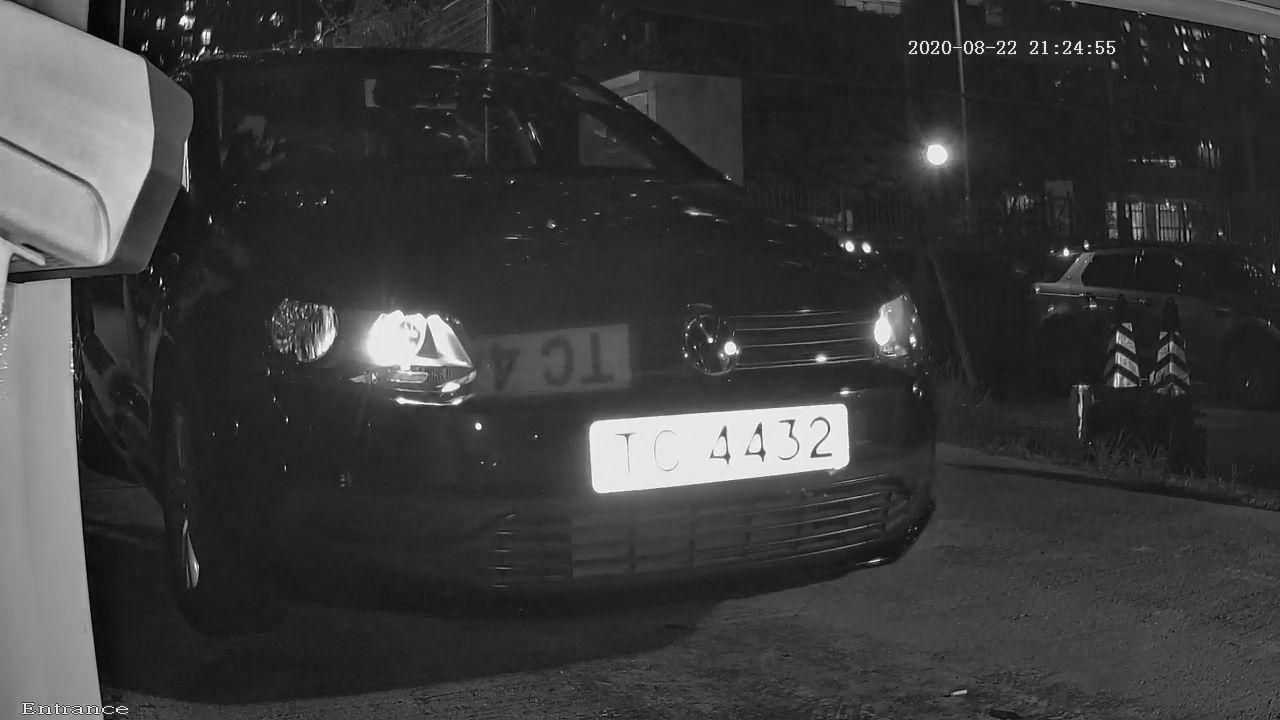Car: (58, 39, 1063, 631)
License Plate: (522, 347, 906, 528)
